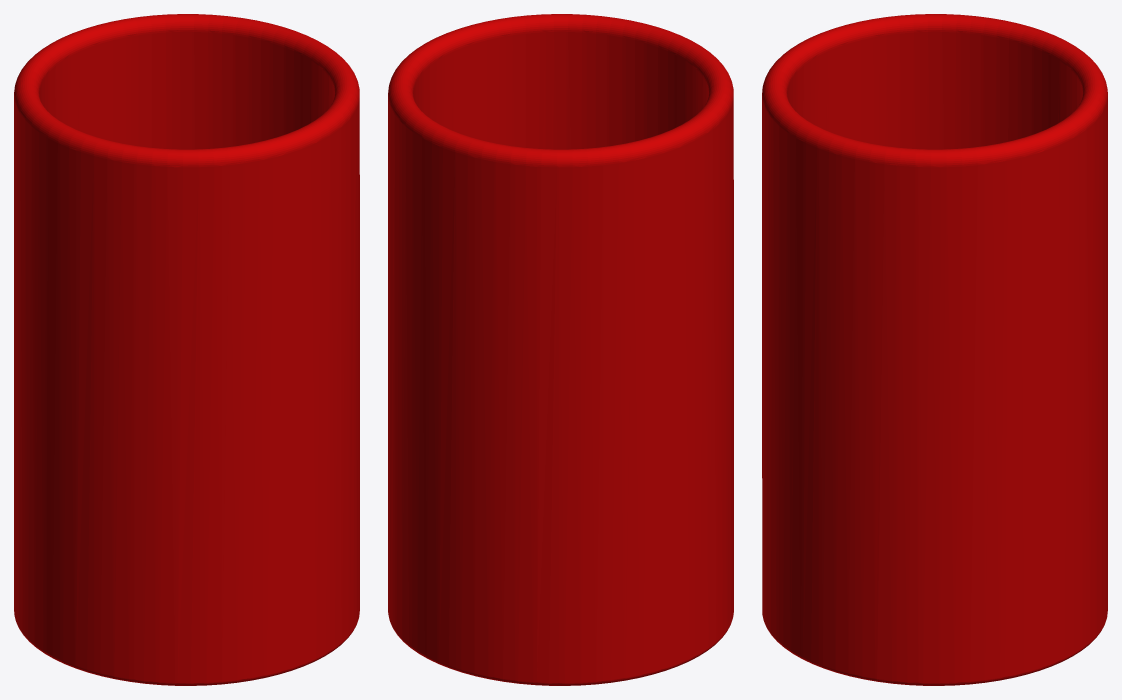
Rendered from cup_red.dae.
3 views of the same model, side by side, from view 1: azimuth 30°, elevation 25°; view 2: azimuth 150°, elevation 25°; view 3: azimuth 270°, elevation 25° (orthographic).
Parts seen in each view (by area): view 1: Part4FBXASC058Mesh; view 2: Part4FBXASC058Mesh; view 3: Part4FBXASC058Mesh.
Boxes of the visible parts, left/top/right/bottom form: Part4FBXASC058Mesh: left=14, top=14, right=359, bottom=685; Part4FBXASC058Mesh: left=388, top=14, right=733, bottom=685; Part4FBXASC058Mesh: left=762, top=14, right=1107, bottom=685.
Bounding box in the file's own units: 7.06 × 11.98 × 7.06.
